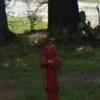Hydrant: (33, 36, 76, 100)
